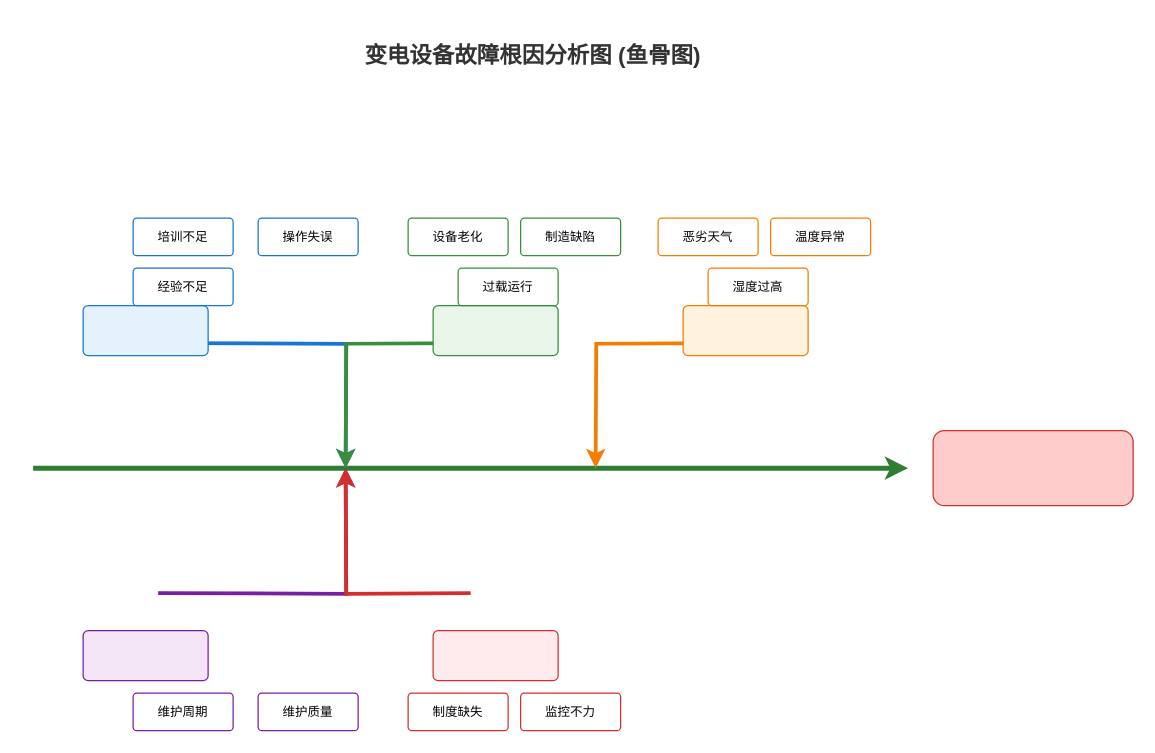
This 1155x753 diagram has some shape labels left out. Here are the shapes that lost their labels. From the top down, the centre of each, then its label:
At (x=145, y=330): "人员因素 Personnel".
At (x=495, y=330): "设备因素 Equipment".
At (x=745, y=330): "环境因素 Environment".
At (x=1032, y=467): "变电设备故障 Equipment Failure".
At (x=145, y=655): "维护因素 Maintenance".
At (x=495, y=655): "管理因素 Management".
